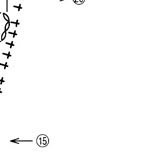chain: (73, 0, 85, 7)
enseble_chain: (0, 12, 21, 42), (8, 132, 35, 148), (37, 133, 50, 147)
